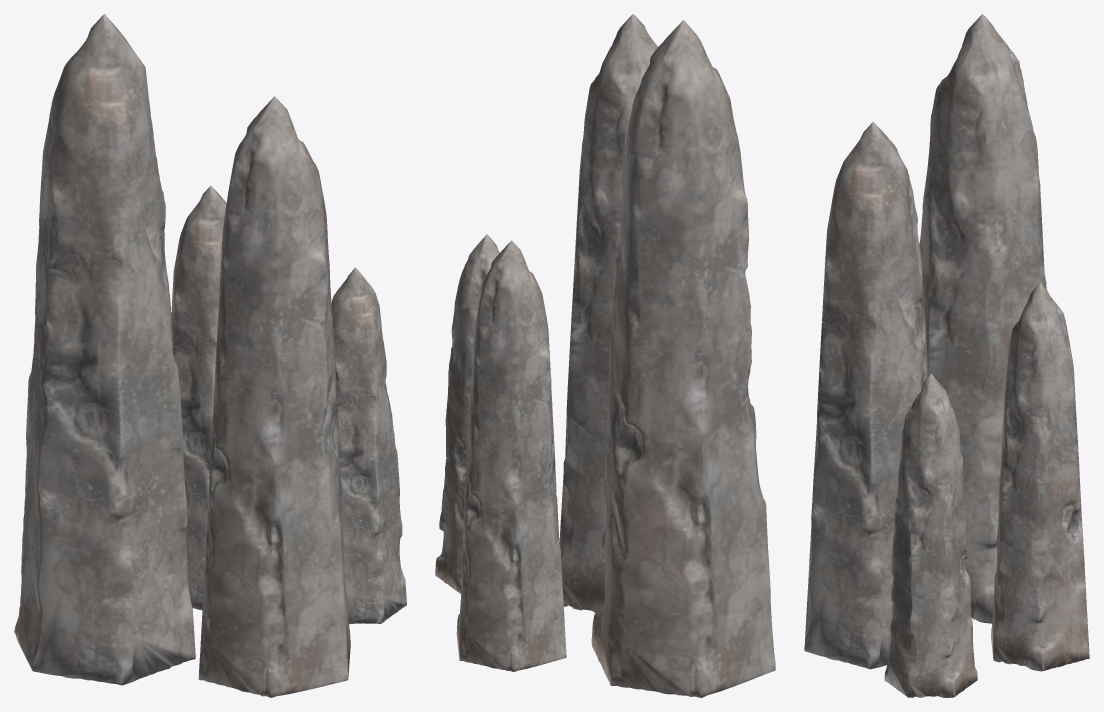
Rendered from SM_stalagmite_06.glb.
3 views of the same model, side by side, from view 1: azimuth 30°, elevation 25°; view 2: azimuth 150°, elevation 25°; view 3: azimuth 270°, elevation 25° (orthographic). The views are drawn at different scales.
Visible parts, largest first — view 1: SM_stalactic_06; view 2: SM_stalactic_06; view 3: SM_stalactic_06.
Boxes of the visible parts, x1,y1,x2,y2 form: SM_stalactic_06: (14,14,406,697); SM_stalactic_06: (435,14,775,697); SM_stalactic_06: (804,14,1089,697).
Size of the model in its own units: 2.8 by 4.93 by 2.22.
Materials: 1 (1 with a texture image).
